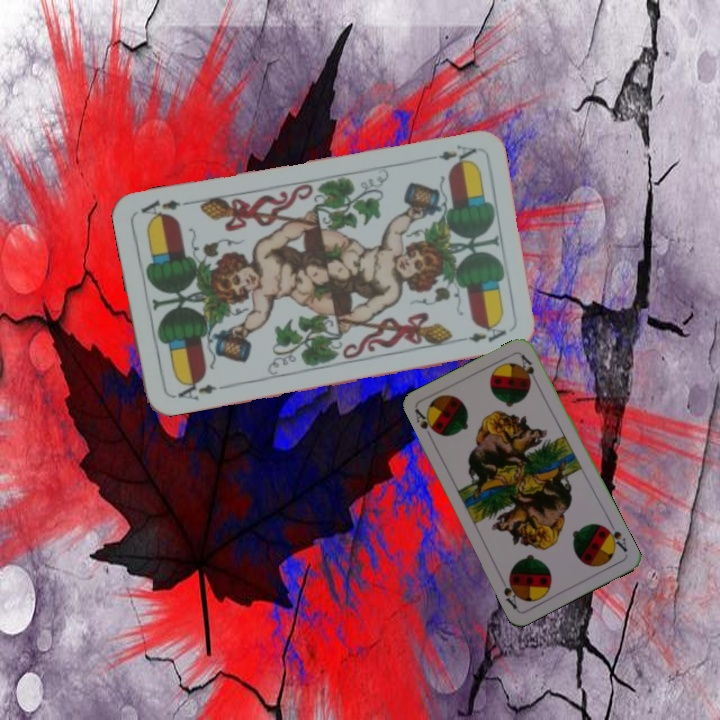EA: (169, 374, 219, 403), (435, 141, 479, 169)
SA: (600, 518, 630, 555), (411, 405, 438, 443)
